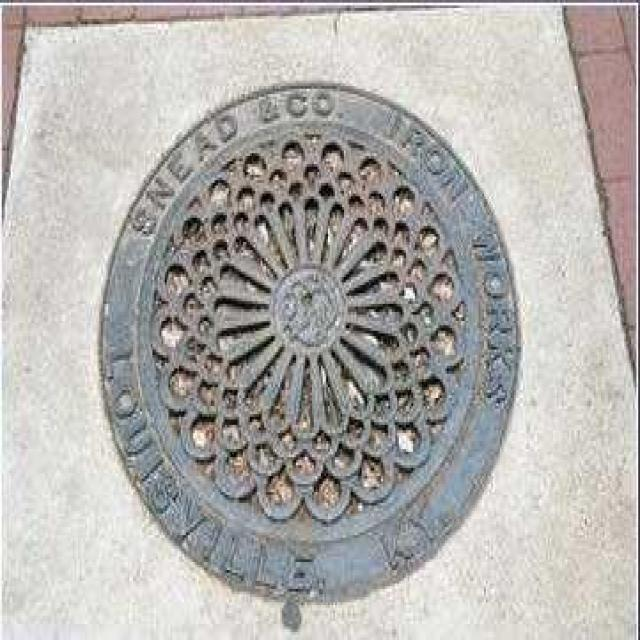manhole: (105, 85, 519, 598)
